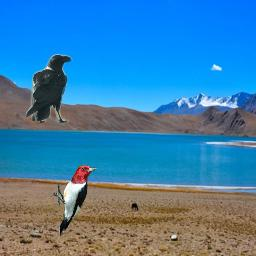Crow: (25, 54, 73, 123)
Woodpecker: (52, 165, 98, 238)
